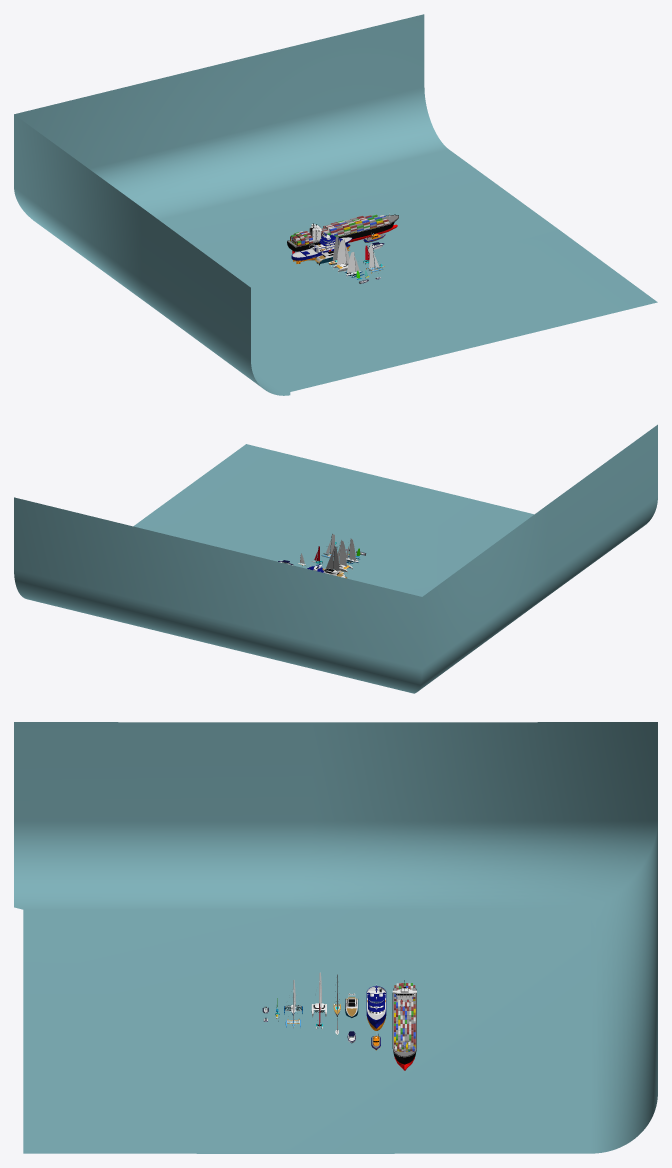
File: uploads_files_4485261_boats+lowpoly.fbx
The picture shows the model from 3 angles, top to bottom: view 1: azimuth 30°, elevation 25°; view 2: azimuth 150°, elevation 25°; view 3: azimuth 270°, elevation 25°; orthographic projection. The views are drawn at different scales.
Parts seen in each view (by area): view 1: Plane.005, Cube.004, Gear, Cube.014; view 2: Plane.005; view 3: Plane.005, Cube.004, Cube.014, Gear.
Boxes of the visible parts, x1=… form: Plane.005: x1=14, y1=14, x2=657, y2=395; Cube.004: x1=290, y1=214, x2=389, y2=246; Gear: x1=287, y1=213, x2=398, y2=253; Cube.014: x1=291, y1=232, x2=352, y2=263; Plane.005: x1=14, y1=424, x2=657, y2=693; Plane.005: x1=14, y1=722, x2=657, y2=1153; Cube.004: x1=394, y1=983, x2=415, y2=1051; Cube.014: x1=366, y1=984, x2=386, y2=1030; Gear: x1=392, y1=988, x2=416, y2=1070.
Size of the model in its own units: 28609 by 7807 by 28581.
